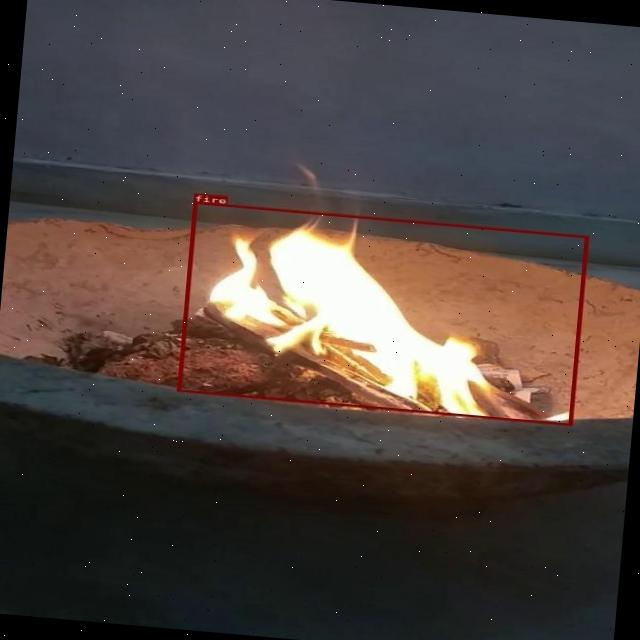fire: (177, 200, 588, 426)
